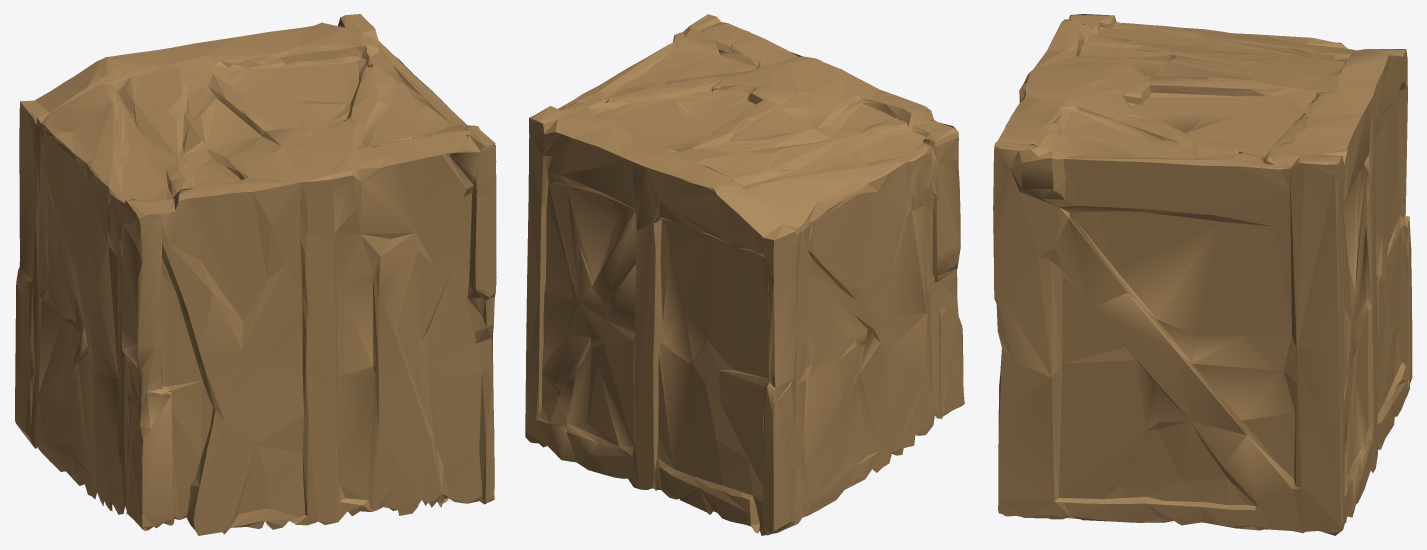
File: ENV_06_CRATE_game.glb
3 renders of one model, left to right at view 1: azimuth 30°, elevation 25°; view 2: azimuth 150°, elevation 25°; view 3: azimuth 270°, elevation 25°, orthographic. The views are drawn at different scales.
Visible parts, largest first — view 1: ENV_06_CRATE; view 2: ENV_06_CRATE; view 3: ENV_06_CRATE.
Part boxes in pixels (box(x1,y1,x2,y2)): ENV_06_CRATE: box(15, 14, 496, 535); ENV_06_CRATE: box(525, 14, 964, 535); ENV_06_CRATE: box(993, 14, 1412, 535).
Size of the model in its own units: 1 by 1 by 1.
